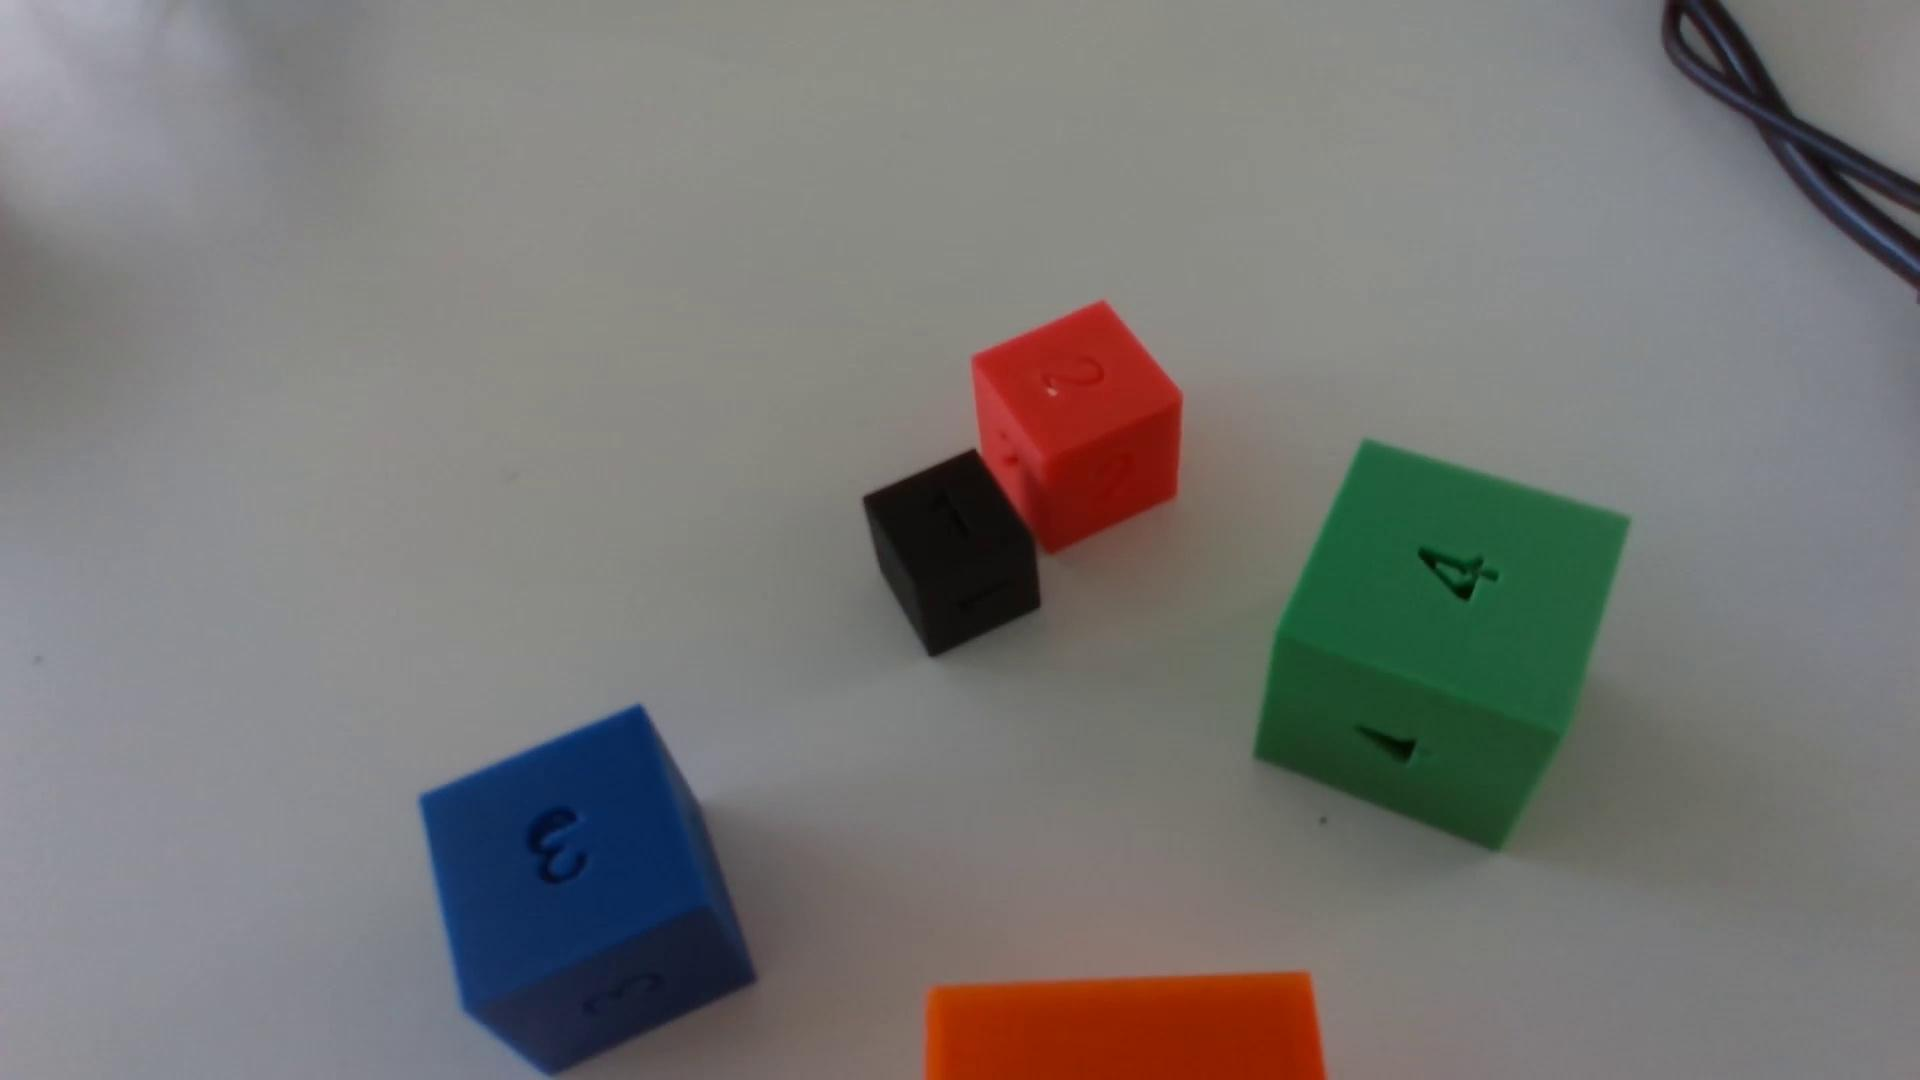black: (862, 450, 1040, 658)
blue: (419, 707, 756, 1076)
green: (1255, 440, 1629, 851)
orange: (924, 973, 1327, 1080)
red: (971, 303, 1183, 555)
